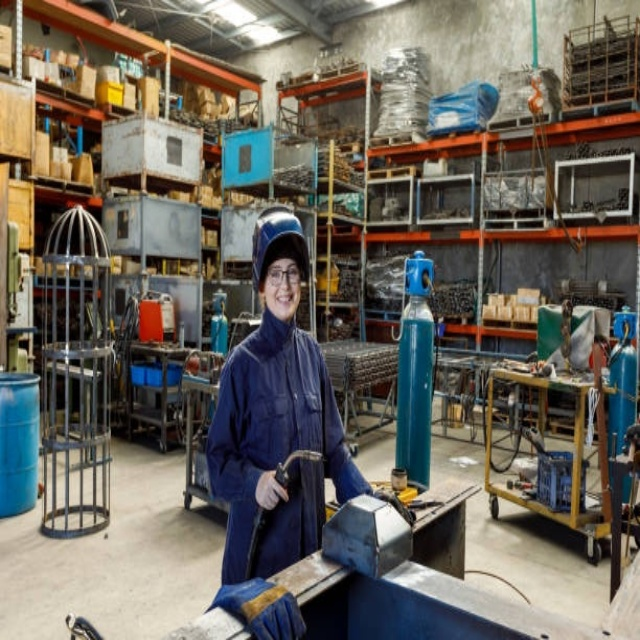Gafas: (265, 268, 302, 286)
Sin_guantes: (255, 469, 287, 511)
Sin_mascara: (272, 289, 296, 317)
